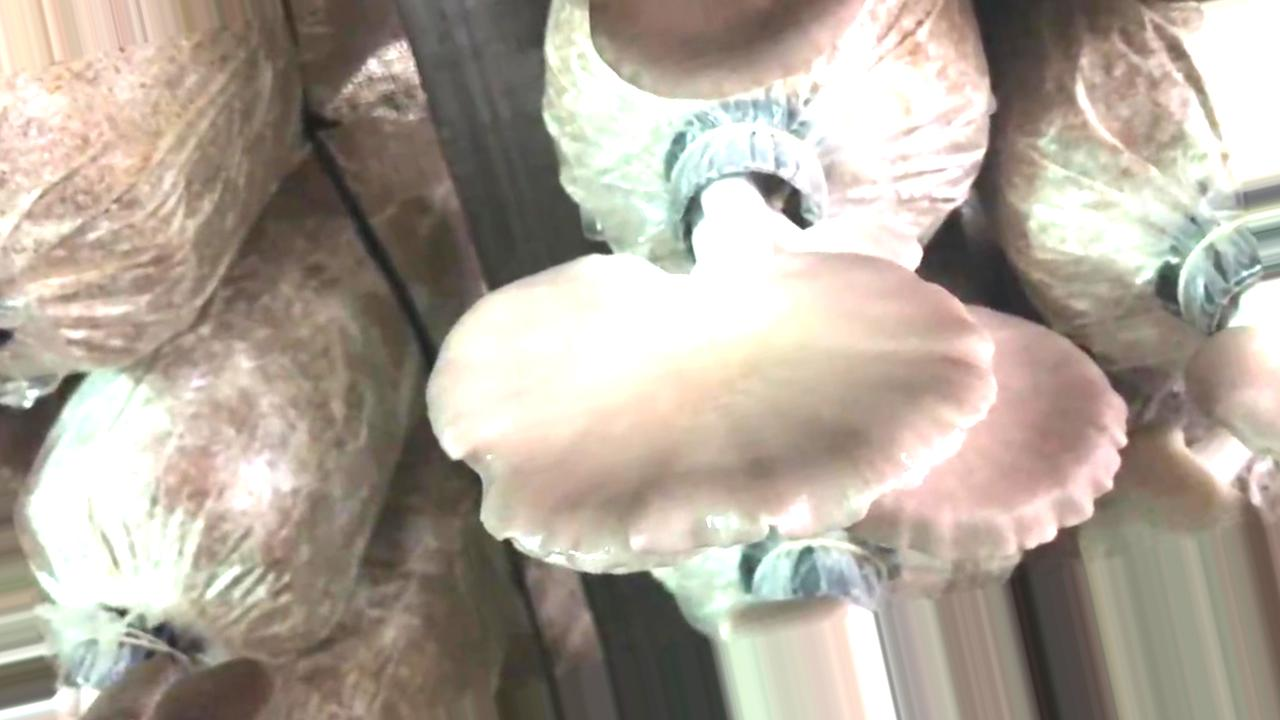nam: (427, 114, 999, 578), (853, 300, 1130, 575), (1123, 212, 1280, 538), (589, 1, 856, 103)
